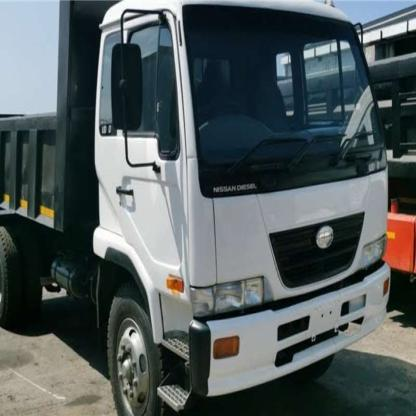dump_truck: (0, 0, 393, 409)
